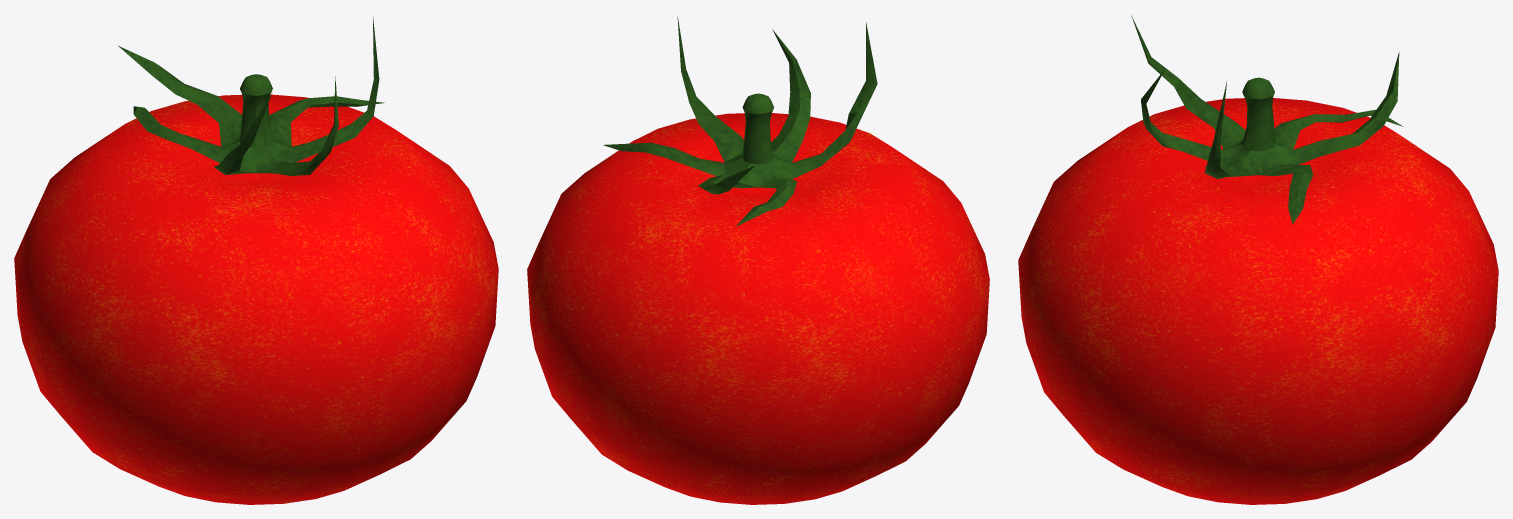
Rendered from tomato01.fbx.
The picture shows the model from 3 angles, left to right: view 1: azimuth 30°, elevation 25°; view 2: azimuth 150°, elevation 25°; view 3: azimuth 270°, elevation 25°; orthographic projection. The views are drawn at different scales.
Visible parts, largest first — view 1: Tomato01; view 2: Tomato01; view 3: Tomato01.
Boxes of the visible parts, x1=… form: Tomato01: x1=14, y1=17, x2=498, y2=504; Tomato01: x1=527, y1=14, x2=989, y2=504; Tomato01: x1=1018, y1=15, x2=1498, y2=504.
Bounding box in the file's own units: 6.75 × 6.92 × 6.75.
Materials: 1 (1 with a texture image).
